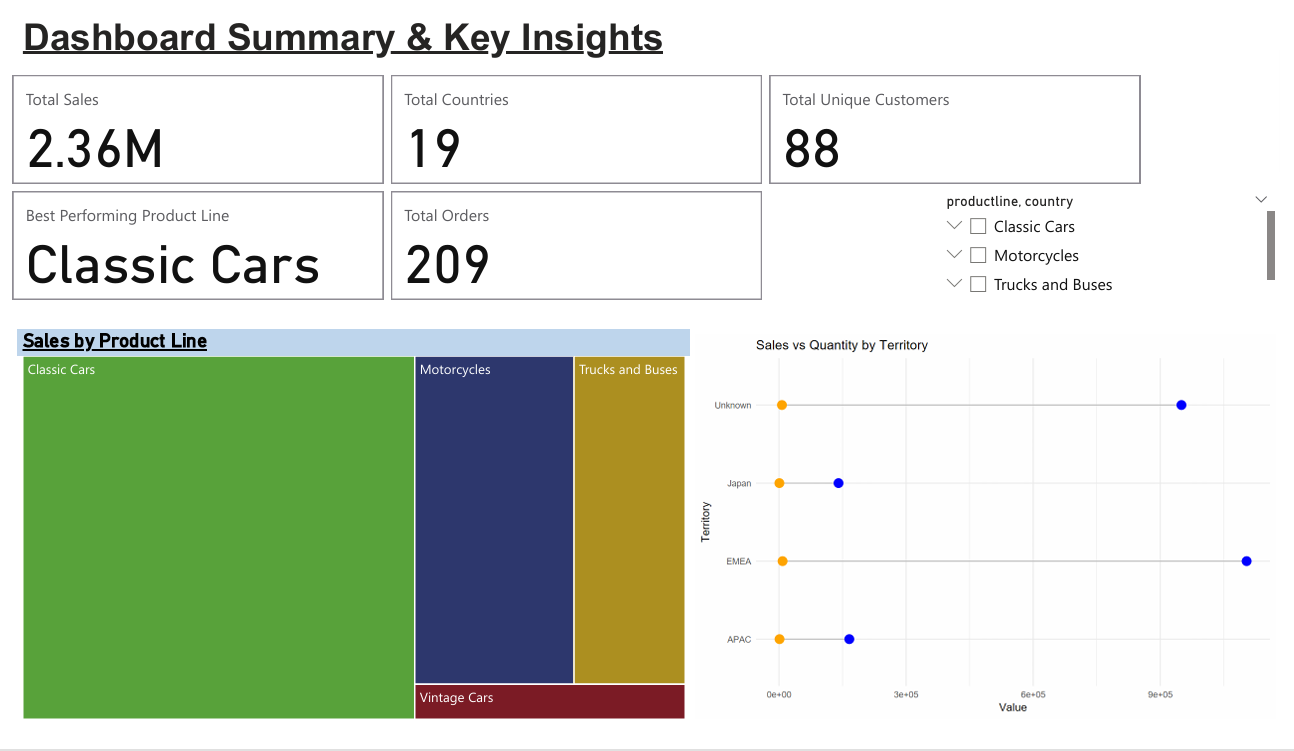

The dashboard page shown, as its layout file describes it:
{"tool":"powerbi","page":{"name":"Summary","canvas":[1280,720],"ordinal":4},"visuals":[{"type":"textbox","box":[10,0,677.2,59.8],"z":0},{"type":"cardVisual","fields":{"Data":["Sales_data.Total Sales","Sales_data.Total Countries","Sales_data.Total Unique Customers","Sales_data.Best Performing Product Line","Sales_data.Total Orders"]},"box":[0,59.8,1145.2,237],"z":1000},{"type":"treemap","title":"Sales by Product Line","fields":{"Group":["Sales_data.productline"],"Values":["Sum(Sales_data.sales)"]},"box":[10,320.7,677.2,398.3],"z":2000},{"type":"scriptVisual","fields":{"Values":["Sales_data.territory","Sales_data.sales","Sales_data.quantityordered"]},"box":[687.1,320.7,593.5,398.3],"z":3000},{"type":"slicer","fields":{"Values":["Sales_data.productline","Sales_data.country"]},"box":[932.1,179.3,348.6,117.5],"z":4000}]}

Visuals, with their boxes on the page's 1280x720 design canvas (x1, y1, x2, y2). These are canvas units, not pixel positions in the 1294x751 screenshot, which may show the page scaled, cropped or inside an application window:
textbox: <box>10,0,687,60</box>
cardVisual - Sales_data.Total Sales x Sales_data.Total Countries: <box>0,60,1145,297</box>
"Sales by Product Line" treemap: <box>10,321,687,719</box>
scriptVisual - Sales_data.territory x Sales_data.sales: <box>687,321,1281,719</box>
slicer - Sales_data.productline x Sales_data.country: <box>932,179,1281,297</box>
